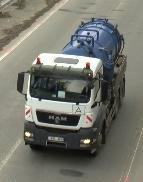truck: (15, 18, 126, 158)
